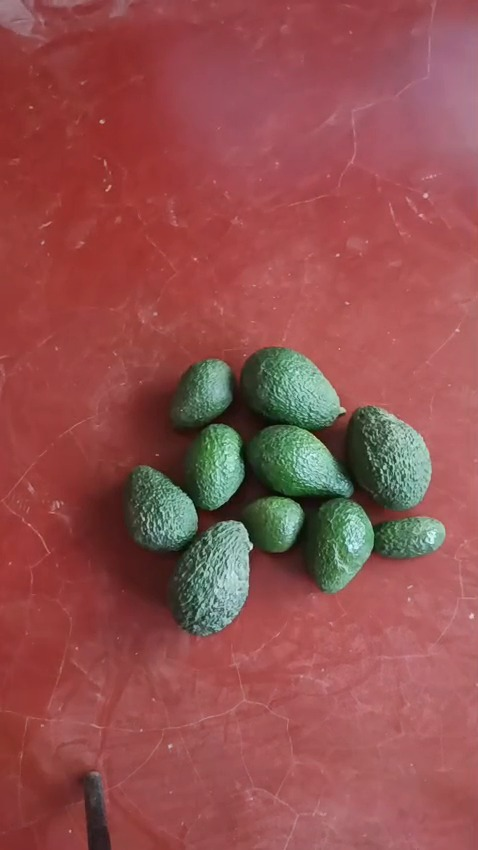Primera: (170, 519, 254, 634), (345, 405, 432, 509), (240, 346, 345, 429), (246, 424, 355, 499), (123, 466, 197, 553)
Segunda: (302, 497, 373, 591), (182, 423, 246, 510)
Tercera: (170, 358, 235, 430), (240, 494, 304, 553), (372, 515, 445, 559)
